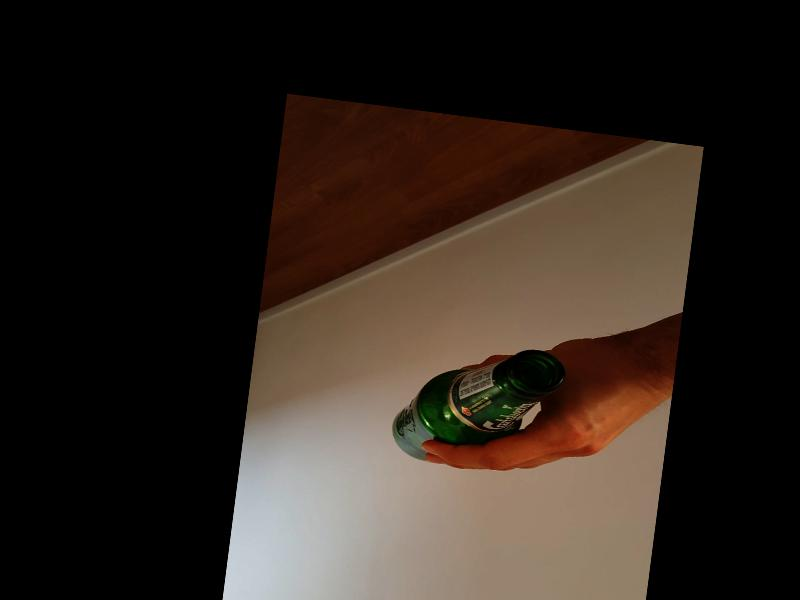Beer: (389, 330, 568, 475)
